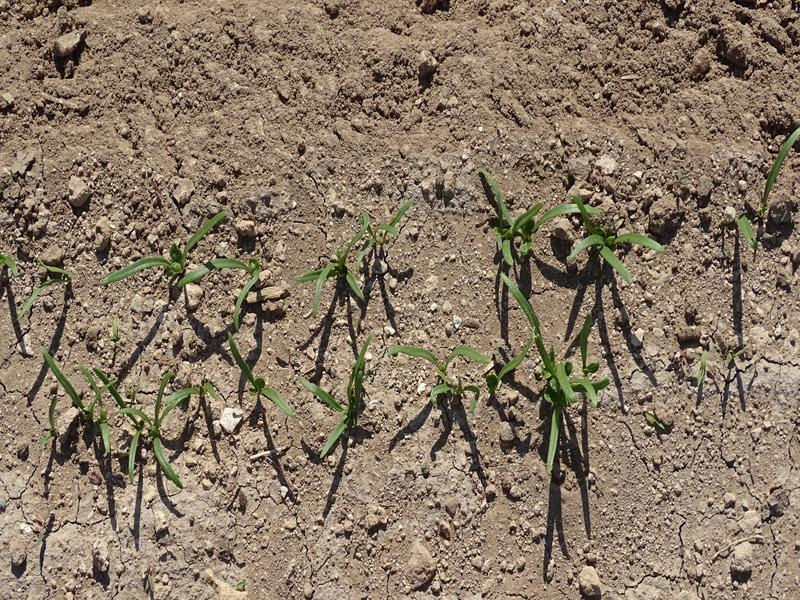Espinaca: (36, 348, 214, 484), (467, 175, 662, 275), (106, 212, 266, 325), (225, 333, 372, 450), (486, 339, 607, 475), (311, 200, 418, 306), (390, 342, 488, 396)
